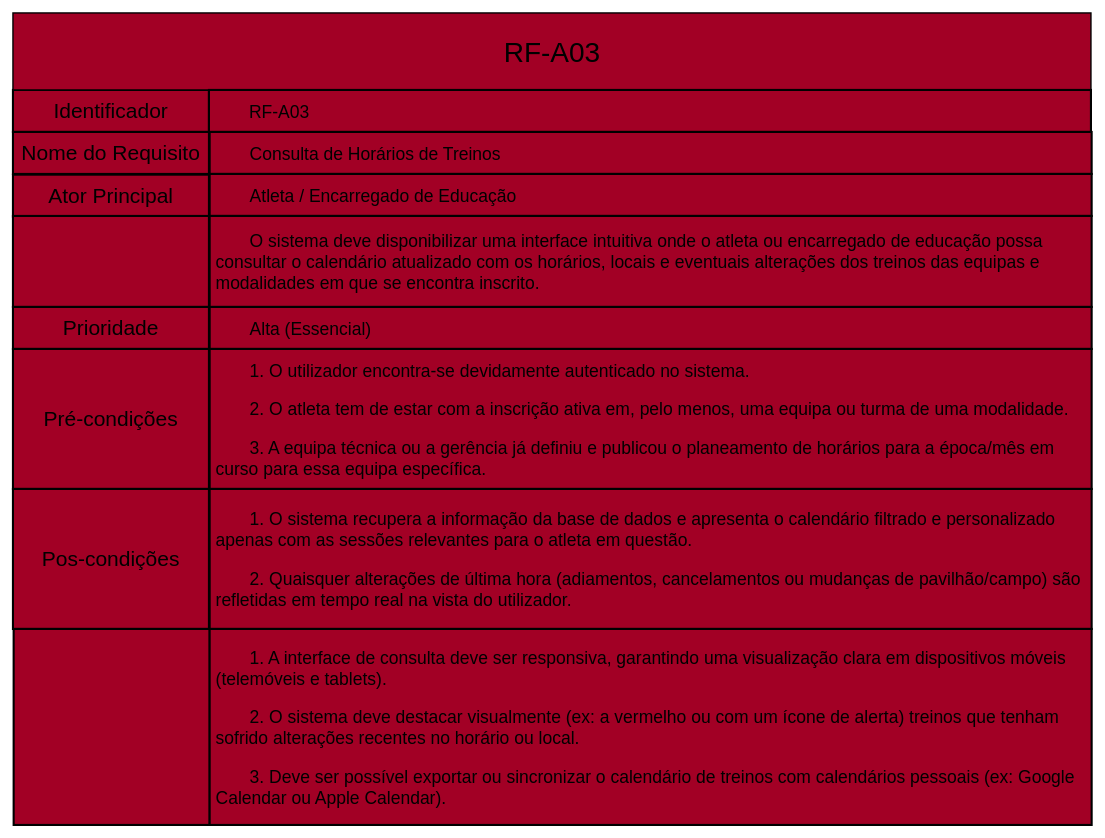
This 1105x838 diagram has some shape labels left out. The shapes that lost their labels are listed below. From the top down, each one's centre as x and y in pixels, then its label:
At pixel 111 261: "Descrição".
At pixel 111 727: "Critérios de Aceitação".
